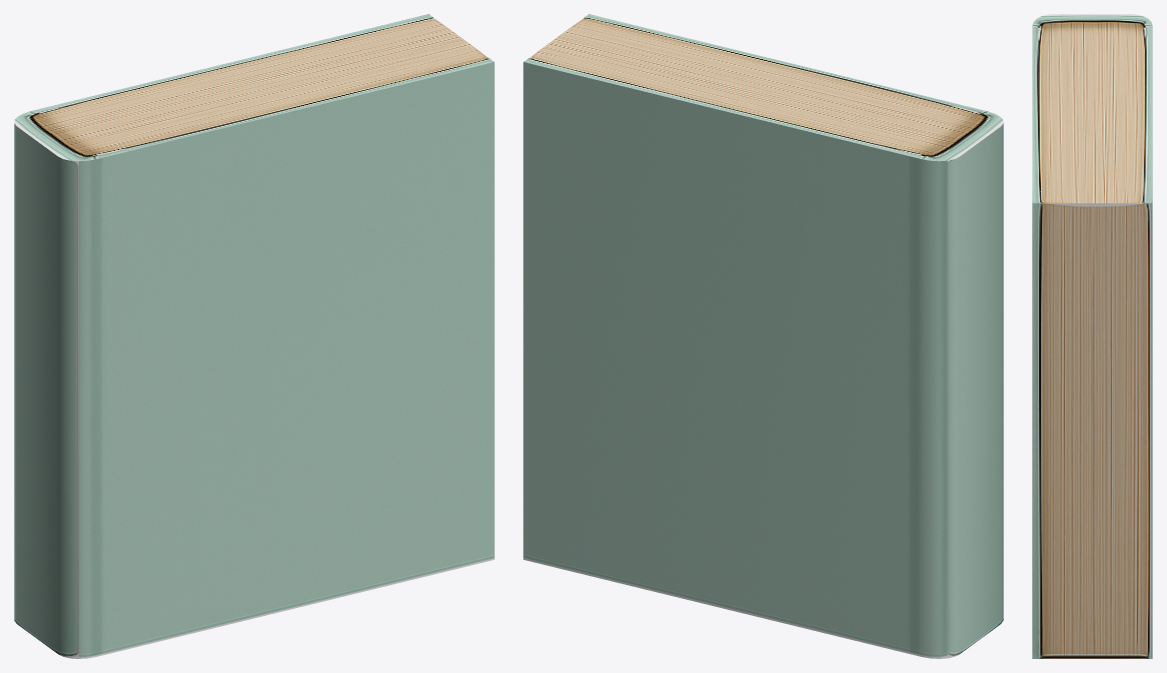
Rendered from BookLBlue.glb.
3 renders of one model, left to right at view 1: azimuth 30°, elevation 25°; view 2: azimuth 150°, elevation 25°; view 3: azimuth 270°, elevation 25°, orthographic. The views are drawn at different scales.
Visible parts, largest first — view 1: Books1.009; view 2: Books1.009; view 3: Books1.009.
Boxes of the visible parts, bbox=[...] form: Books1.009: bbox=[14, 14, 494, 658]; Books1.009: bbox=[523, 14, 1003, 658]; Books1.009: bbox=[1032, 14, 1152, 658].
Size of the model in its own units: 0.127 by 0.1424 by 0.0341.
Materials: 1 (1 with a texture image).
